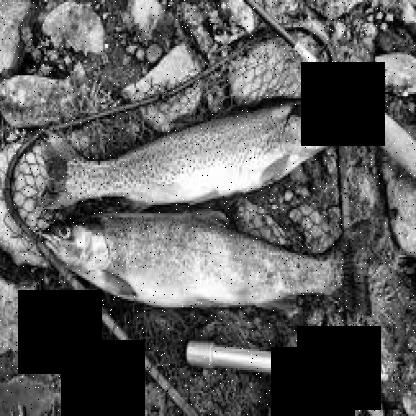fish: (33, 198, 371, 318), (37, 86, 345, 214)
